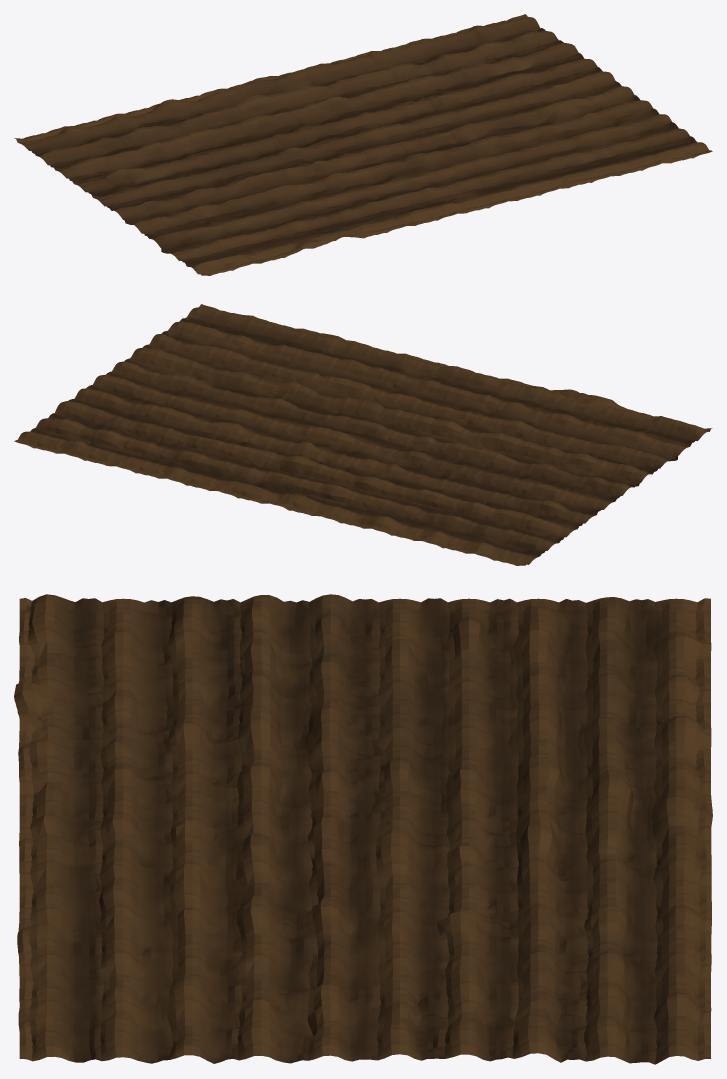
File: field.glb
3 renders of one model, top to bottom at view 1: azimuth 30°, elevation 25°; view 2: azimuth 150°, elevation 25°; view 3: azimuth 270°, elevation 25°, orthographic. The views are drawn at different scales.
Parts seen in each view (by area): view 1: field; view 2: field; view 3: field.
Part boxes in pixels (box(x1,y1,x2,y2)): field: box(14, 14, 712, 275); field: box(14, 304, 712, 565); field: box(14, 594, 712, 1064).
Bounding box in the file's own units: 19.98 × 0.6193 × 12.75.
